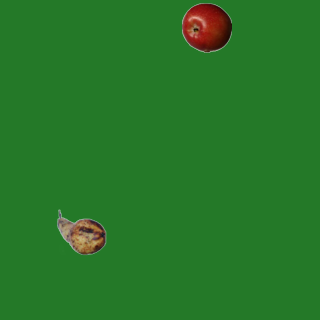Apple Braeburn: (181, 2, 231, 52)
Pear Abate: (56, 207, 106, 257)
